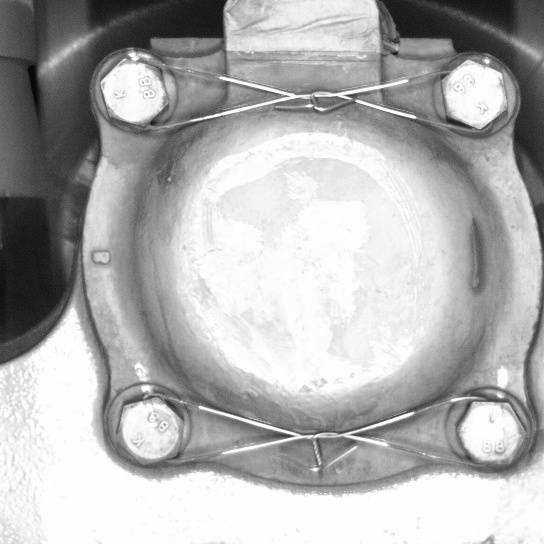IronWire: (88, 43, 517, 141), (108, 385, 532, 477)
Screw: (88, 46, 177, 137), (432, 49, 517, 141), (110, 384, 192, 479), (447, 386, 532, 475)
